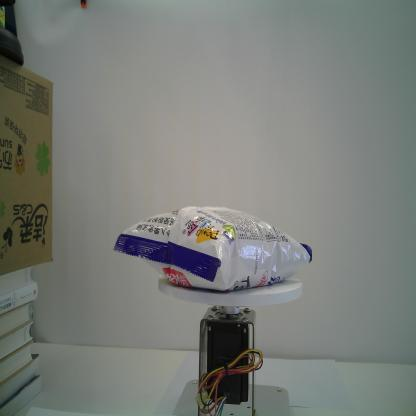Puffed Food: (111, 203, 313, 298)
